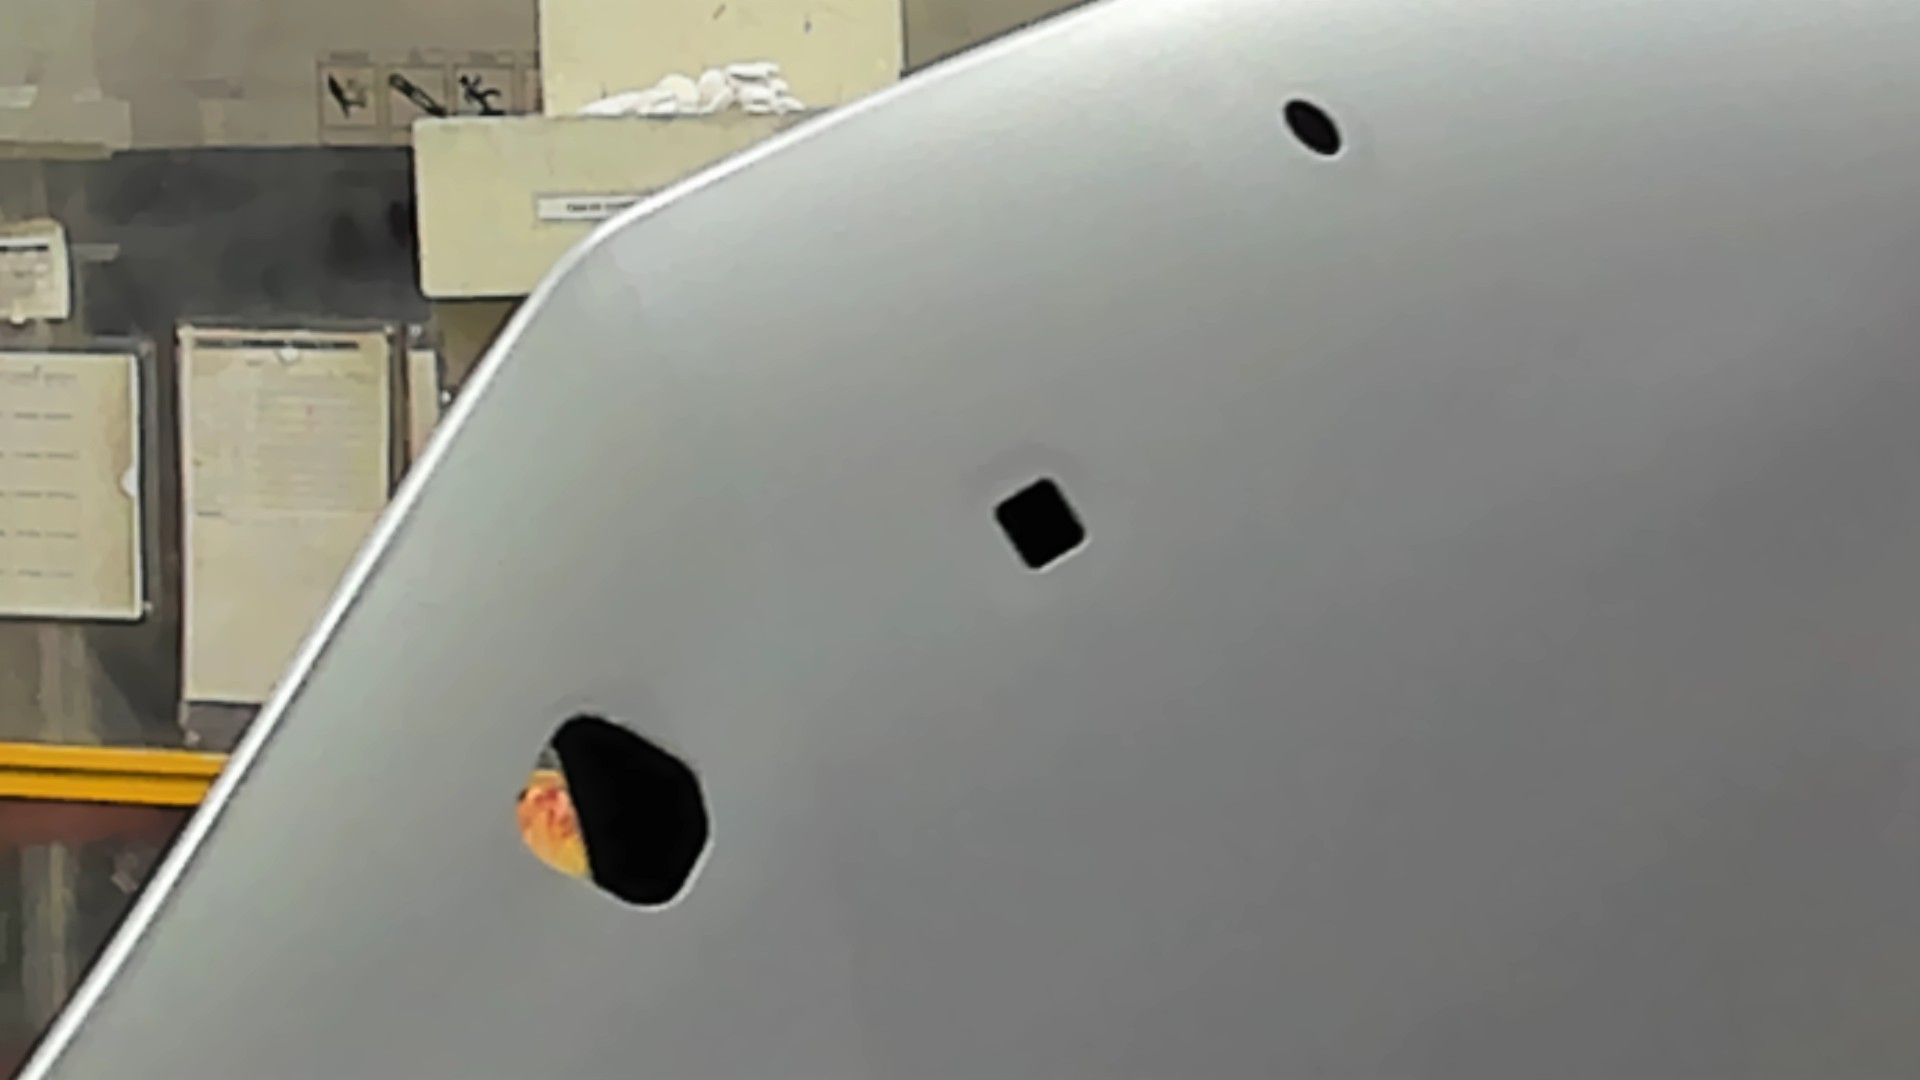chico: (1276, 92, 1345, 161)
grande: (504, 702, 719, 915)
mediano: (982, 473, 1100, 576)
